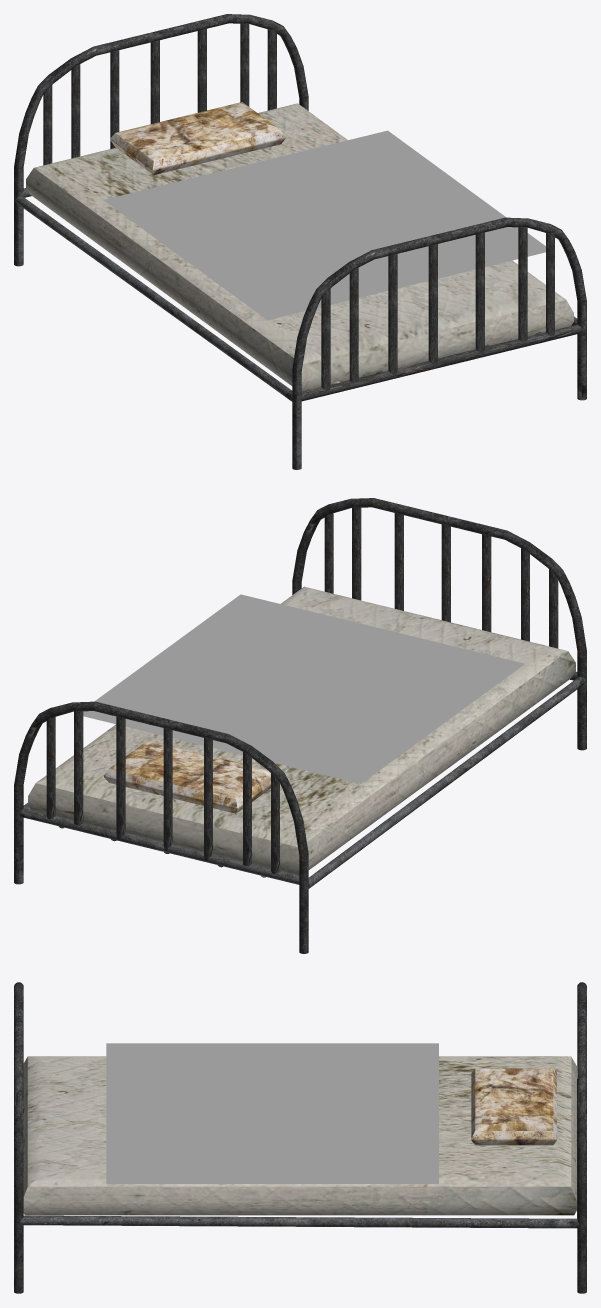
File: CamaRE1.fbx
3 views of the same model, one above another, from view 1: azimuth 30°, elevation 25°; view 2: azimuth 150°, elevation 25°; view 3: azimuth 270°, elevation 25° (orthographic).
Visible parts, largest first — view 1: pPlane1, pCube1, pCube2, pCylinder4, pCylinder3, pCylinder6, pCylinder7, pCylinder15, pCylinder16, pCylinder17, pCylinder18, pCylinder14 (+9 smaller); view 2: pPlane1, pCube1, pCylinder3, pCube2, pCylinder4, pCylinder6, pCylinder8, pCylinder23, pCylinder24, pCylinder25, pCylinder22, pCylinder21 (+9 smaller); view 3: pPlane1, pCube1, pCube2, pCylinder5, pCylinder3, pCylinder4.
Part boxes in pixels (<box>): pPlane1: <box>103,130,545,320</box>; pCube1: <box>26,103,573,391</box>; pCube2: <box>110,102,285,174</box>; pCylinder4: <box>292,217,586,469</box>; pCylinder3: <box>14,14,308,266</box>; pCylinder6: <box>16,196,292,401</box>; pCylinder7: <box>300,324,581,401</box>; pCylinder15: <box>388,253,397,377</box>; pCylinder16: <box>428,244,437,367</box>; pCylinder17: <box>475,232,484,356</box>; pCylinder18: <box>518,227,527,341</box>; pCylinder14: <box>349,267,358,382</box>; pPlane1: <box>83,594,524,783</box>; pCube1: <box>28,586,575,875</box>; pCylinder3: <box>14,701,308,953</box>; pCube2: <box>104,740,270,813</box>; pCylinder4: <box>292,498,586,750</box>; pCylinder6: <box>308,677,586,888</box>; pCylinder8: <box>20,808,299,884</box>; pCylinder23: <box>163,728,172,851</box>; pCylinder24: <box>116,716,125,839</box>; pCylinder25: <box>74,711,83,825</box>; pCylinder22: <box>204,738,212,861</box>; pCylinder21: <box>243,752,251,866</box>; pPlane1: <box>106,1043,438,1183</box>; pCube1: <box>23,1056,576,1215</box>; pCube2: <box>471,1068,556,1145</box>; pCylinder5: <box>20,1215,578,1228</box>; pCylinder3: <box>577,982,586,1293</box>; pCylinder4: <box>14,982,23,1293</box>.
Bounding box in the file's own units: 11.19 × 7.03 × 18.12.
